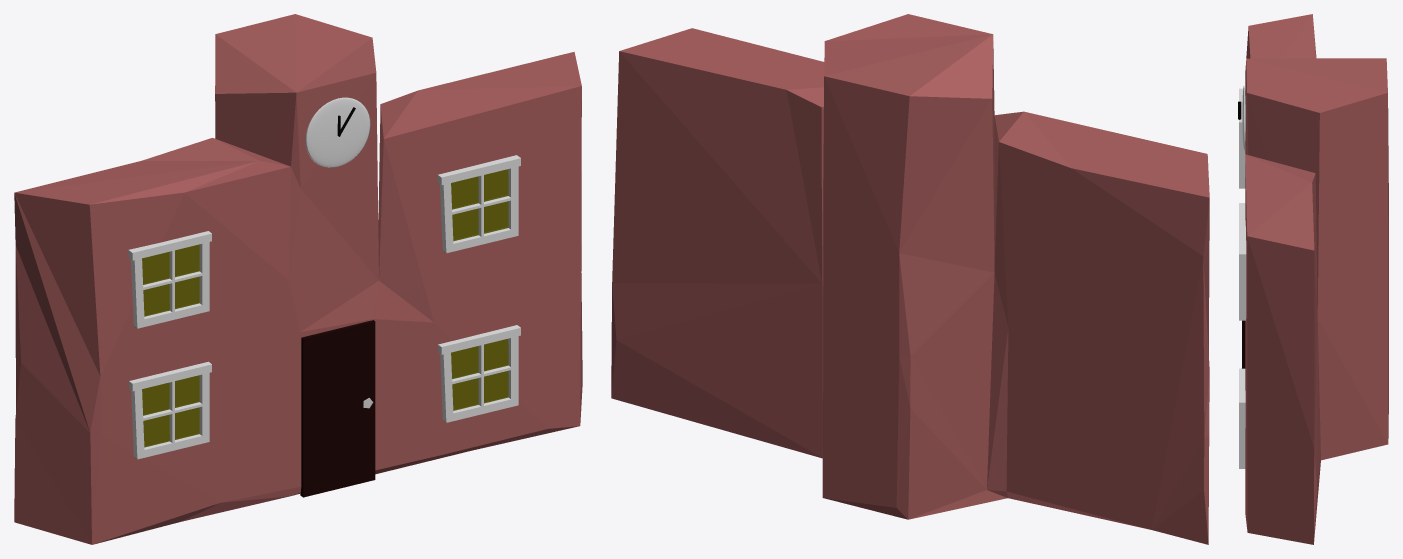
The model's file is building1_lowpoly.fbx.
The picture shows the model from 3 angles, left to right: view 1: azimuth 30°, elevation 25°; view 2: azimuth 150°, elevation 25°; view 3: azimuth 270°, elevation 25°; orthographic projection. The views are drawn at different scales.
Parts seen in each view (by area): view 1: School; view 2: School; view 3: School.
Boxes of the visible parts, left/top/right/bottom form: School: left=14, top=14, right=582, bottom=544; School: left=611, top=14, right=1209, bottom=544; School: left=1238, top=14, right=1388, bottom=544.
Bounding box in the file's own units: 7.89 × 5.35 × 2.07.
